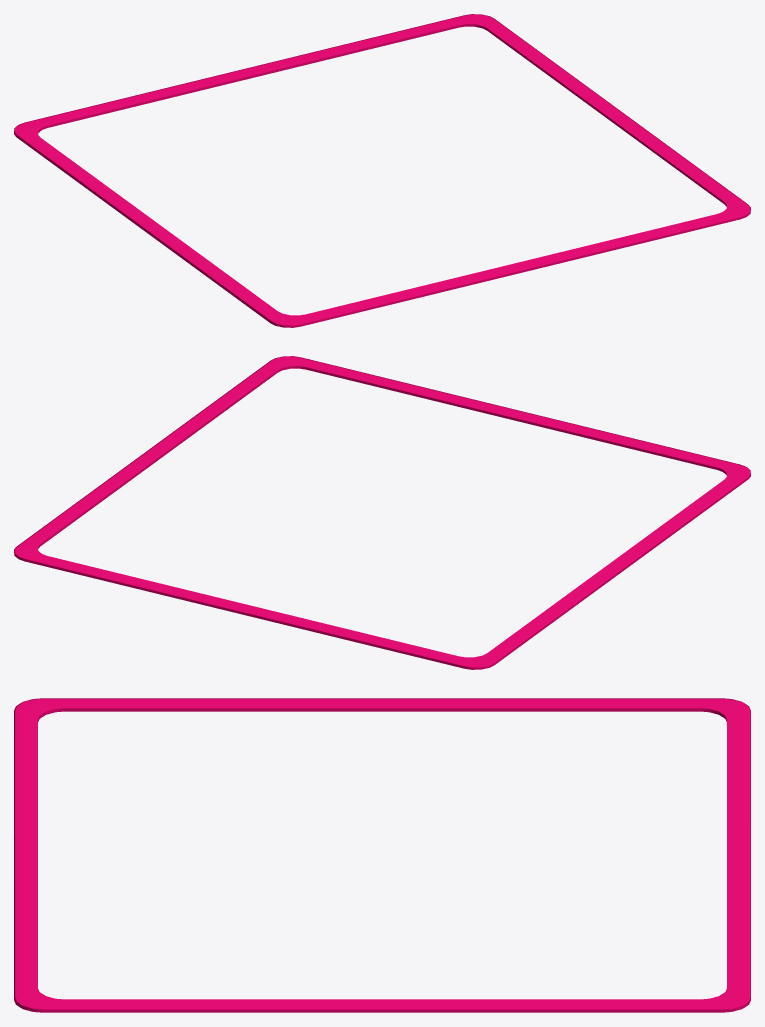
Rendered from border-enemies.glb.
3 renders of one model, top to bottom at view 1: azimuth 30°, elevation 25°; view 2: azimuth 150°, elevation 25°; view 3: azimuth 270°, elevation 25°, orthographic. The views are drawn at different scales.
Visible parts, largest first — view 1: Box; view 2: Box; view 3: Box.
Boxes of the visible parts, x1=… form: Box: x1=14, y1=14, x2=750, y2=327; Box: x1=14, y1=356, x2=750, y2=669; Box: x1=14, y1=698, x2=750, y2=1012.
Size of the model in its own units: 0.8317 by 0.00416 by 0.8317.
